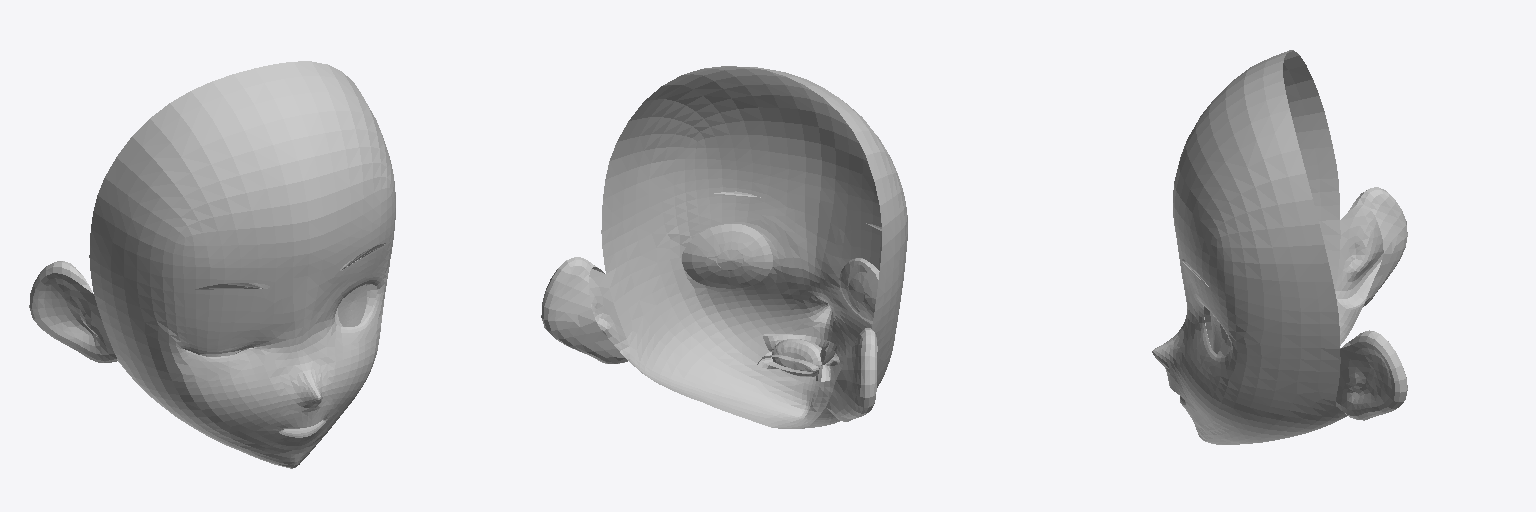
Rendered from eyeBlinkRight.obj.
3 views of the same model, side by side, from view 1: azimuth 30°, elevation 25°; view 2: azimuth 150°, elevation 25°; view 3: azimuth 270°, elevation 25° (orthographic).
Visible parts, largest first — view 1: Face; view 2: Face; view 3: Face.
Part boxes in pixels (x1,y1,x2,y2): Face: (29,61,395,468); Face: (541,66,907,428); Face: (1152,50,1407,444).
Bounding box in the file's own units: 0.2176 × 0.2333 × 0.1449.